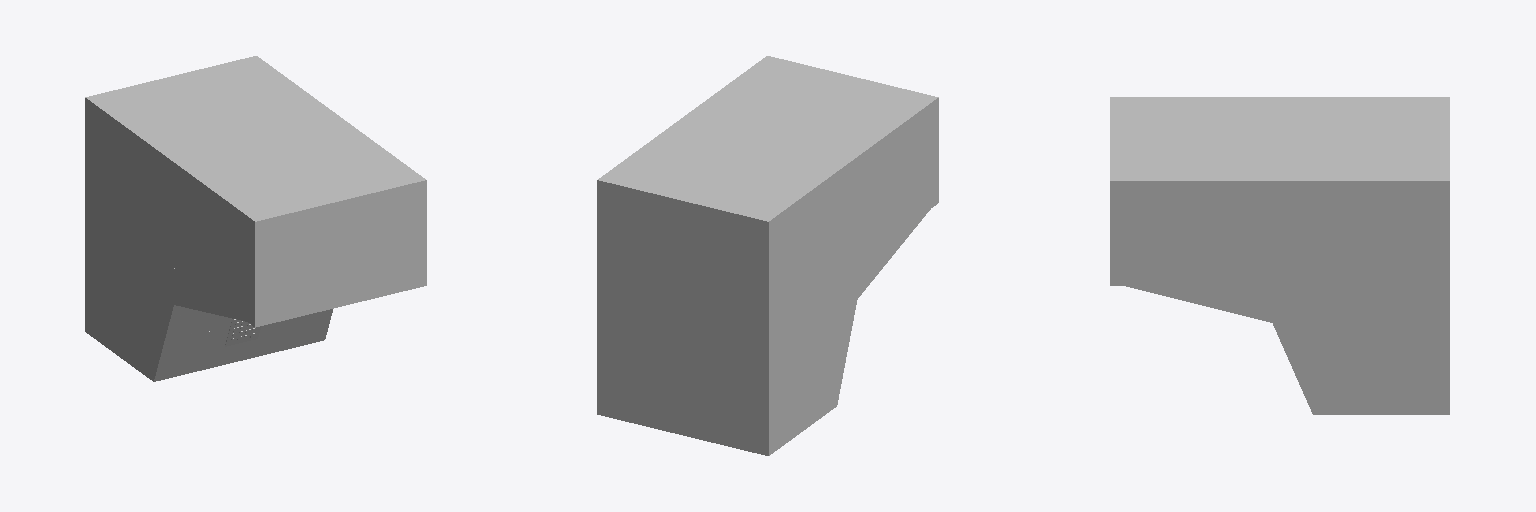
File: FakeATM.obj
3 views of the same model, side by side, from view 1: azimuth 30°, elevation 25°; view 2: azimuth 150°, elevation 25°; view 3: azimuth 270°, elevation 25° (orthographic).
Parts seen in each view (by area): view 1: obj_0; view 2: obj_0; view 3: obj_0.
Part boxes in pixels (x1,y1,x2,y2): obj_0: (85, 56, 426, 381); obj_0: (597, 56, 938, 455); obj_0: (1110, 97, 1449, 414).
Size of the model in its own units: 39 by 51 by 67.